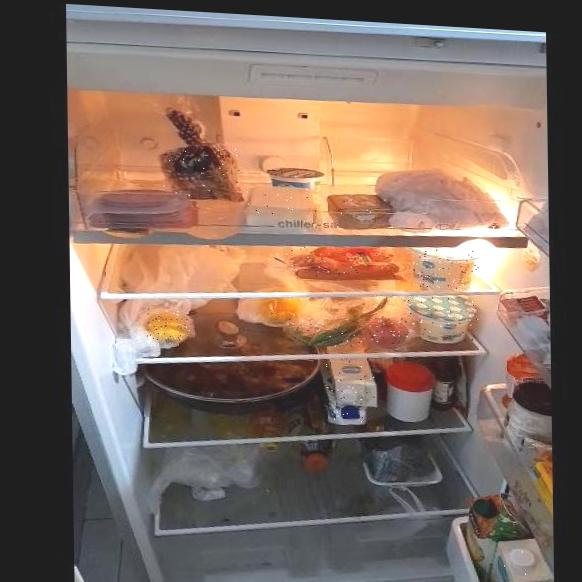bread: (161, 143, 242, 201)
butter: (326, 192, 393, 226)
carrot: (292, 246, 400, 281)
cheese: (244, 185, 316, 217)
green chilies: (285, 314, 362, 348)
lemon: (146, 308, 193, 342), (258, 298, 303, 325)
milk: (323, 360, 375, 423), (499, 536, 553, 582)
tomato: (366, 315, 409, 345)
yoghurt: (408, 296, 478, 343), (413, 246, 480, 290), (268, 165, 323, 190)
